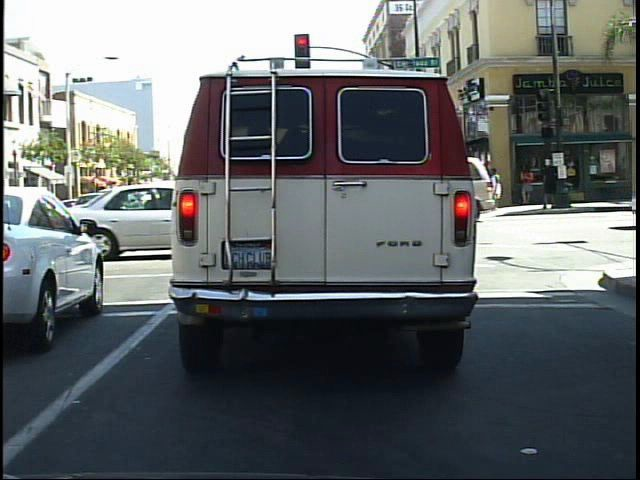person: (536, 154, 562, 214), (479, 156, 498, 214), (488, 166, 508, 213), (520, 158, 538, 209)
